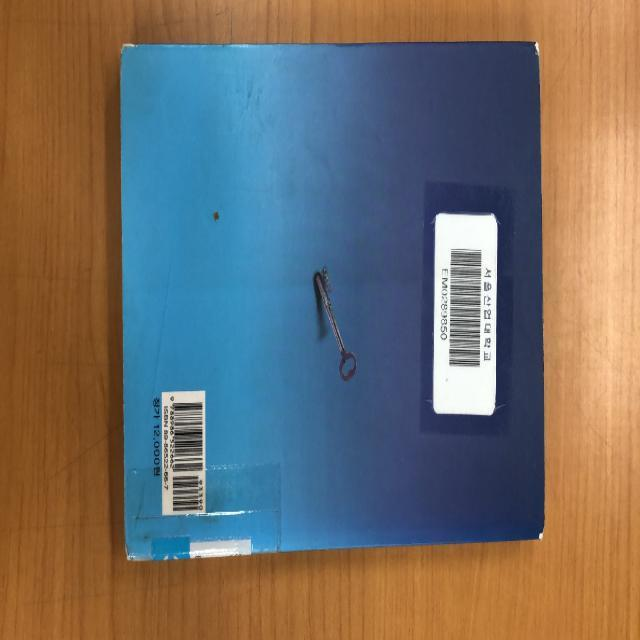Ripped: (115, 38, 145, 90)
Wornout: (117, 361, 134, 439), (536, 498, 550, 554), (120, 519, 134, 575), (531, 31, 545, 87)
